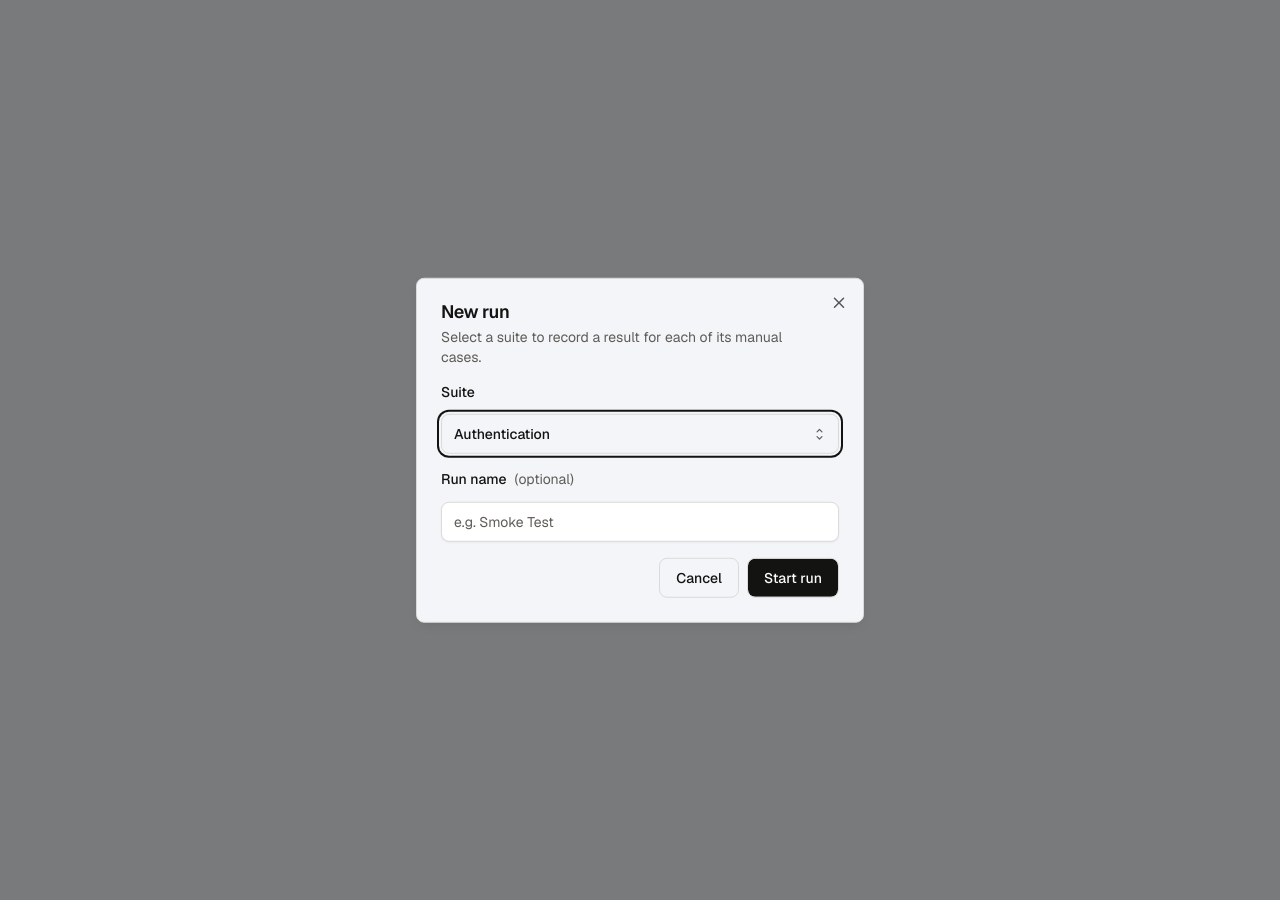
NewRunForm › announcing the starting state › mirrors the starting label in the status region while the request is pending
Click the button "Start run": (793, 577) [747,557,839,597]
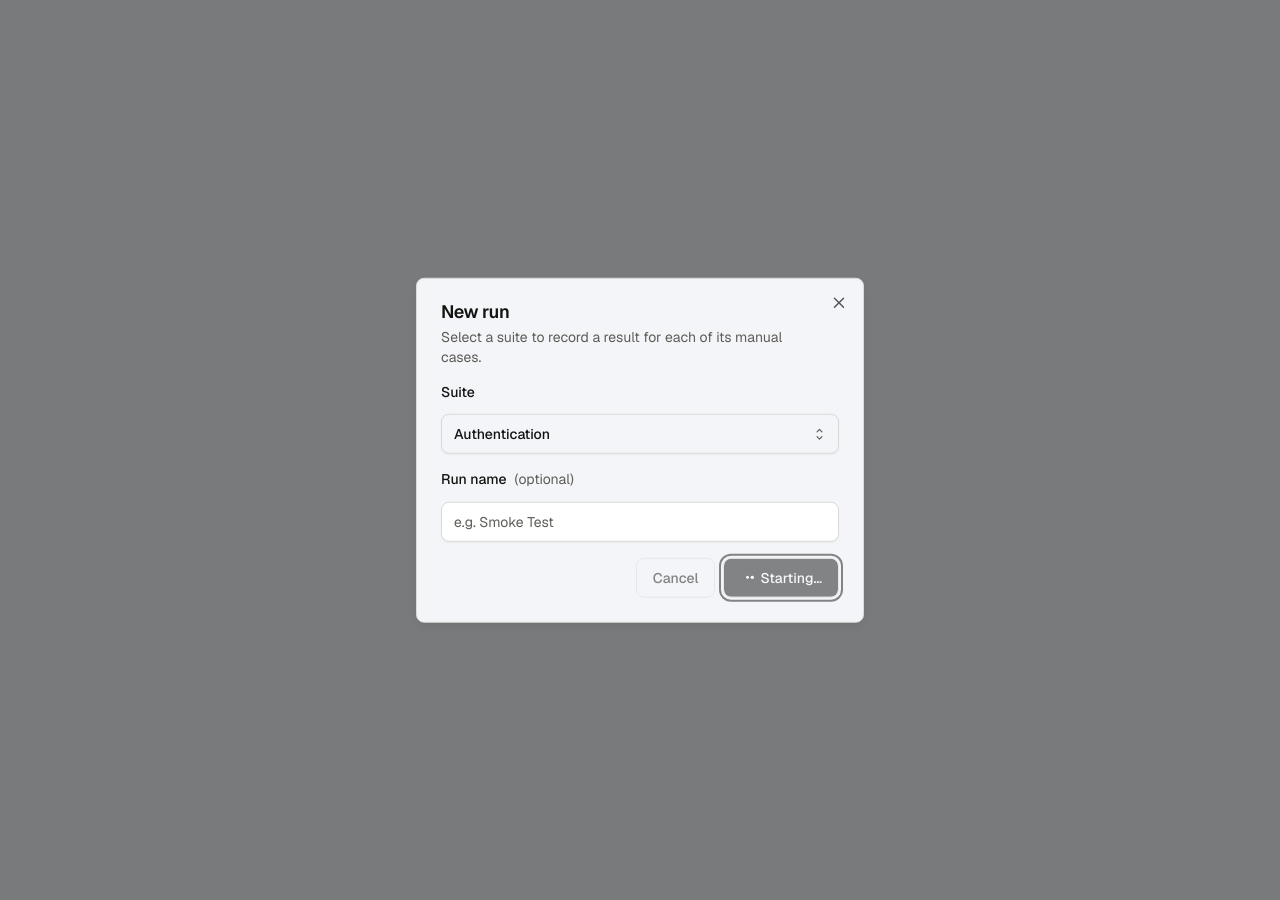
Result: the button "Starting…" is shown at [723,557,839,597]
